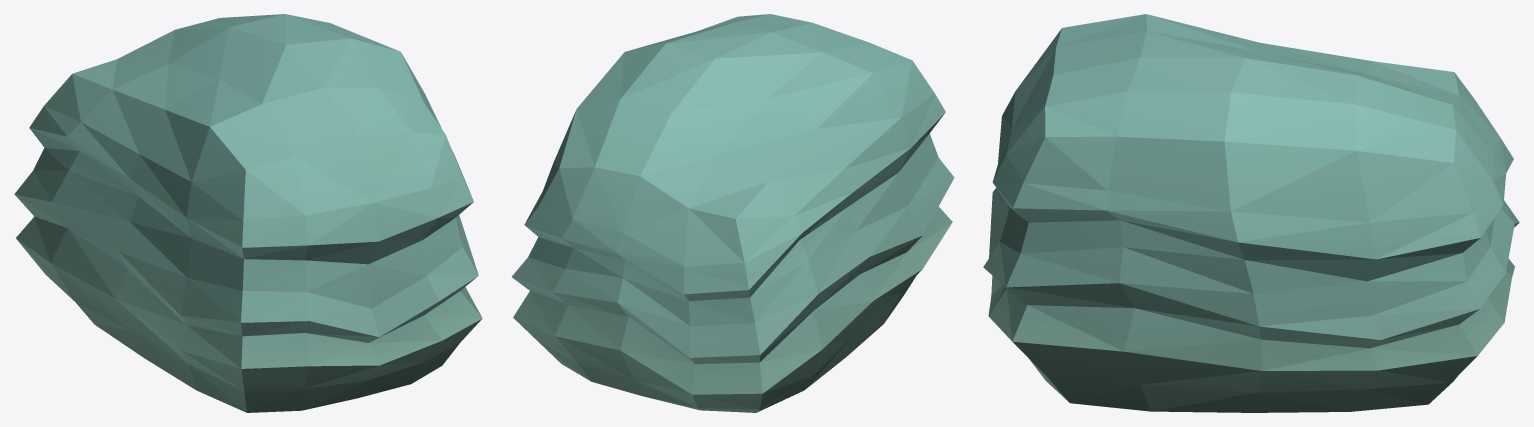
Rendered from bush_round.glb.
3 views of the same model, side by side, from view 1: azimuth 30°, elevation 25°; view 2: azimuth 150°, elevation 25°; view 3: azimuth 270°, elevation 25° (orthographic). The views are drawn at different scales.
Visible parts, largest first — view 1: Bush_1_1_C; view 2: Bush_1_1_C; view 3: Bush_1_1_C.
Part boxes in pixels (x1,y1,x2,y2): Bush_1_1_C: (14,14,482,412); Bush_1_1_C: (512,14,954,412); Bush_1_1_C: (983,14,1519,412).
Bounding box in the file's own units: 1.19 × 1 × 1.6.
1 material, 1 textured.
